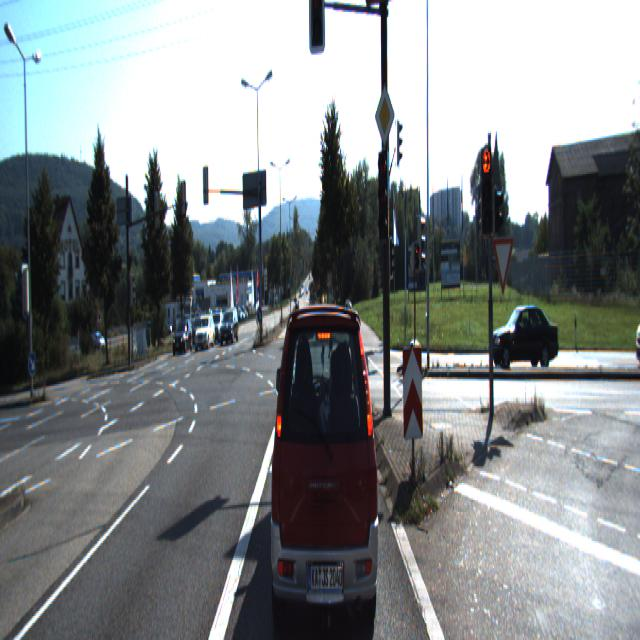Car: (266, 274, 381, 632), (489, 298, 560, 373), (194, 316, 215, 350), (172, 321, 192, 355), (218, 312, 238, 346)
